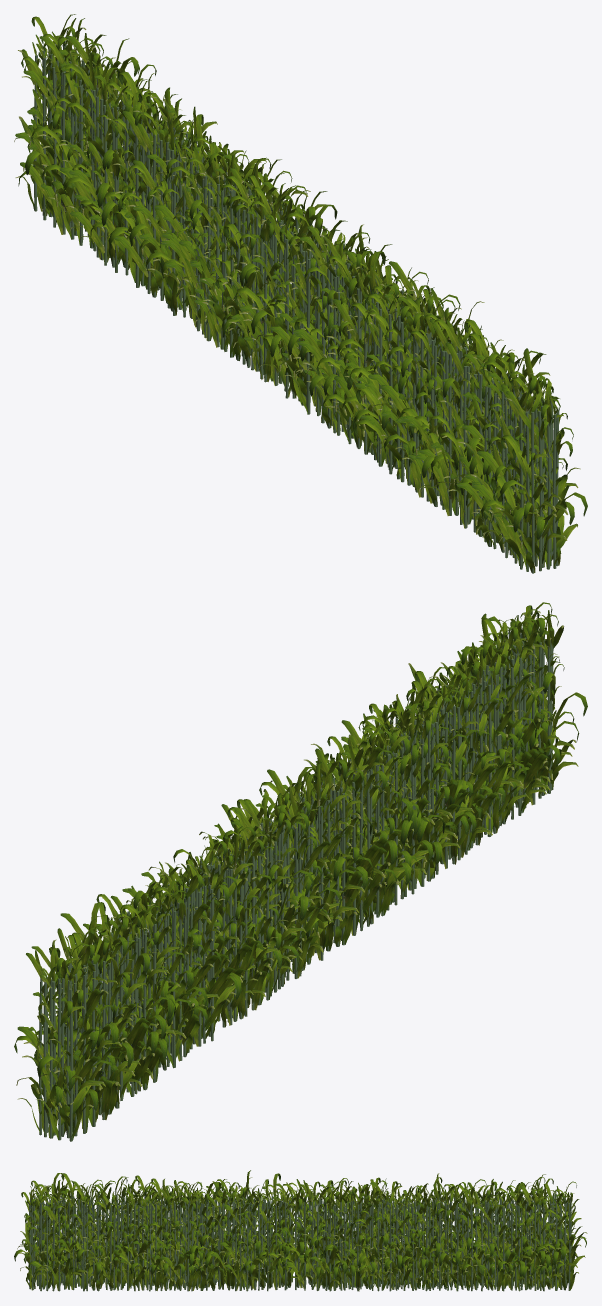
The model's file is milharal1x50_denso3.fbx.
3 renders of one model, top to bottom at view 1: azimuth 30°, elevation 25°; view 2: azimuth 150°, elevation 25°; view 3: azimuth 270°, elevation 25°, orthographic. The views are drawn at different scales.
Visible parts, largest first — view 1: Plantacao2; view 2: Plantacao2; view 3: Plantacao2.
Part boxes in pixels (x1,y1,x2,y2): Plantacao2: (14, 14, 587, 573); Plantacao2: (14, 602, 587, 1141); Plantacao2: (14, 1170, 587, 1291).
Size of the model in its own units: 578 by 1096 by 5294.
